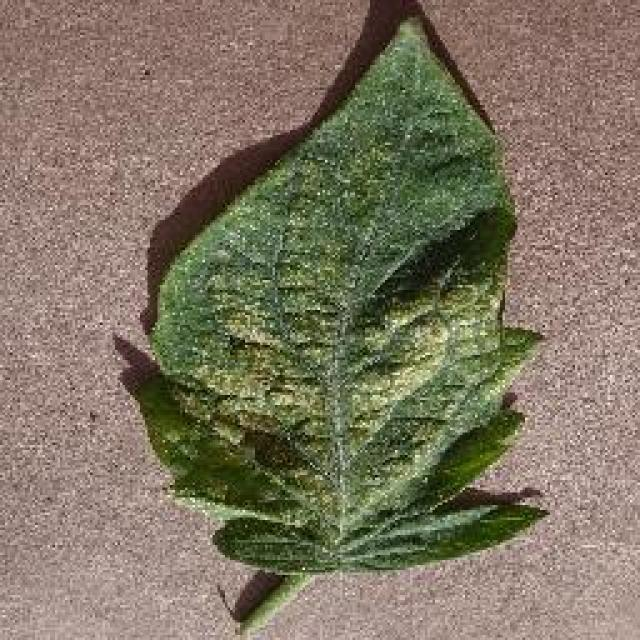Tomato___Spider_mites Two-spotted_spider_mite: (140, 18, 542, 632)
